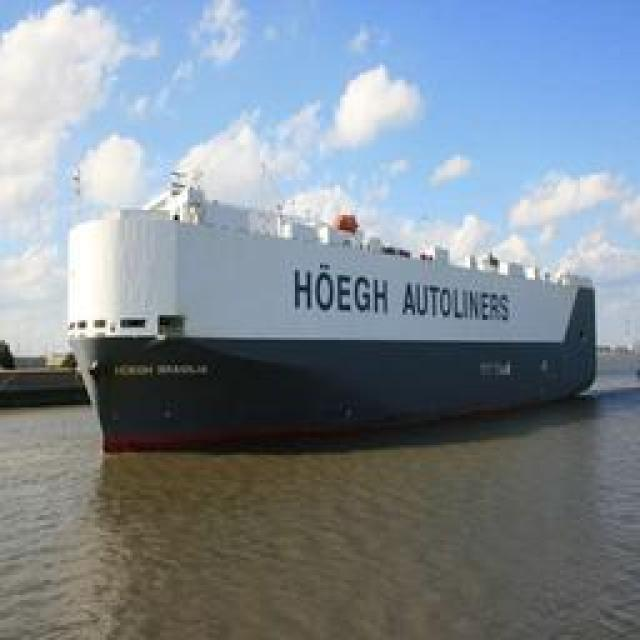ship2: (65, 157, 597, 455)
